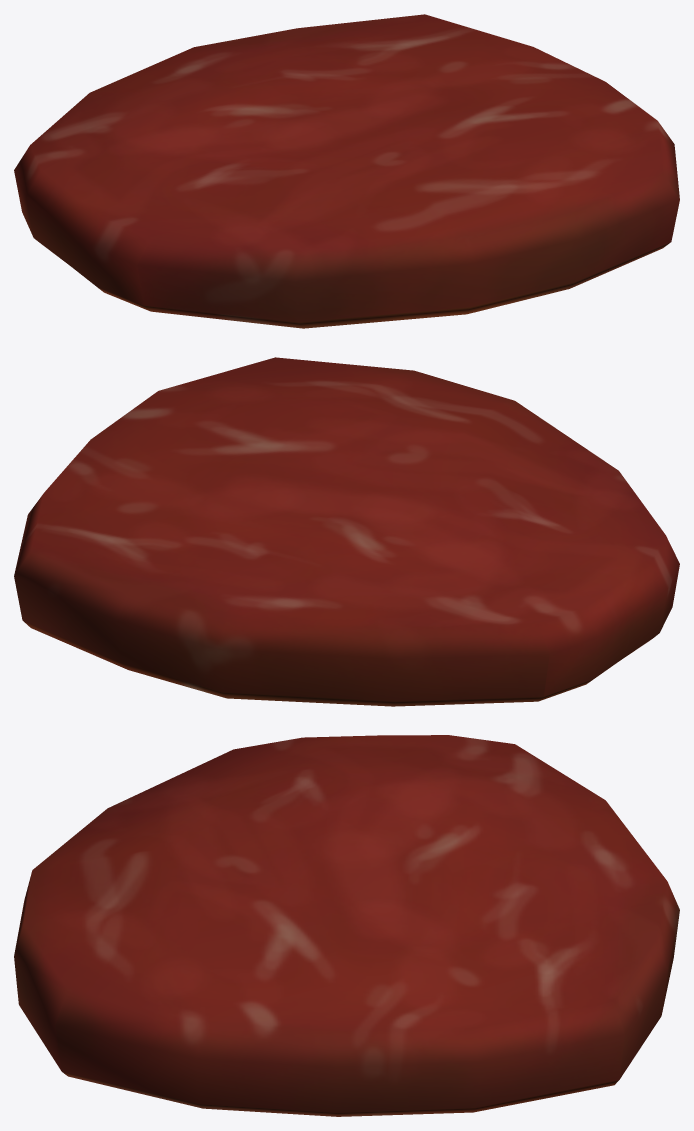
The model's file is Meat_Blob_Scaled.fbx.
3 renders of one model, top to bottom at view 1: azimuth 30°, elevation 25°; view 2: azimuth 150°, elevation 25°; view 3: azimuth 270°, elevation 25°, orthographic. The views are drawn at different scales.
Parts seen in each view (by area): view 1: Raw_Meat_Blob; view 2: Raw_Meat_Blob; view 3: Raw_Meat_Blob.
Part boxes in pixels (left/top/right/bottom): Raw_Meat_Blob: left=14, top=14, right=679, bottom=328; Raw_Meat_Blob: left=14, top=357, right=679, bottom=706; Raw_Meat_Blob: left=14, top=735, right=679, bottom=1116.
Bounding box in the file's own units: 12.62 × 2.21 × 11.47.
